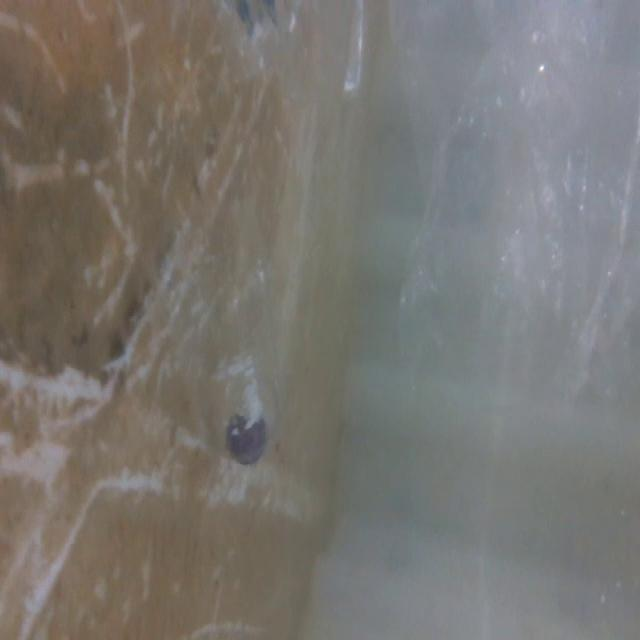plastic bags: (386, 0, 639, 413), (179, 0, 379, 111)
plastic bottle: (150, 184, 289, 460)
